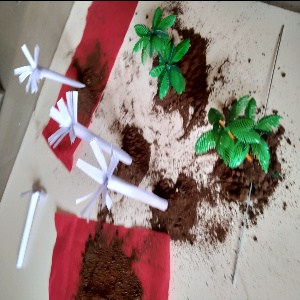plant: (188, 88, 287, 178), (122, 10, 190, 94)
weed: (72, 133, 177, 220), (40, 82, 140, 163), (8, 41, 82, 98), (14, 182, 50, 273)
